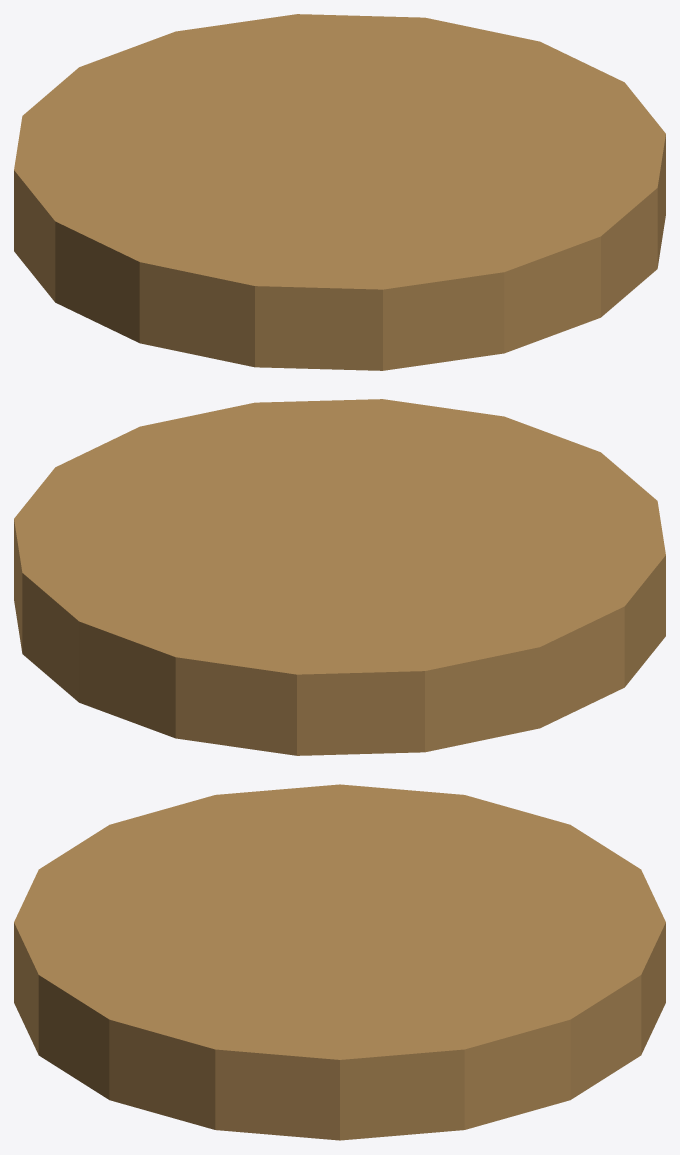
Rendered from SH10_Gold_Coin.fbx.
3 renders of one model, top to bottom at view 1: azimuth 30°, elevation 25°; view 2: azimuth 150°, elevation 25°; view 3: azimuth 270°, elevation 25°, orthographic.
Parts seen in each view (by area): view 1: SH10_Gold_Coin; view 2: SH10_Gold_Coin; view 3: SH10_Gold_Coin.
Boxes of the visible parts, x1,y1,x2,y2 form: SH10_Gold_Coin: (14,14,665,370); SH10_Gold_Coin: (14,399,665,755); SH10_Gold_Coin: (14,784,665,1140).
Size of the model in its own units: 44 by 6 by 44.
